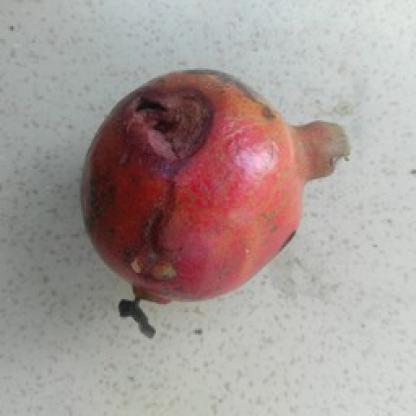pomegranate_rotten: (71, 65, 352, 338)
